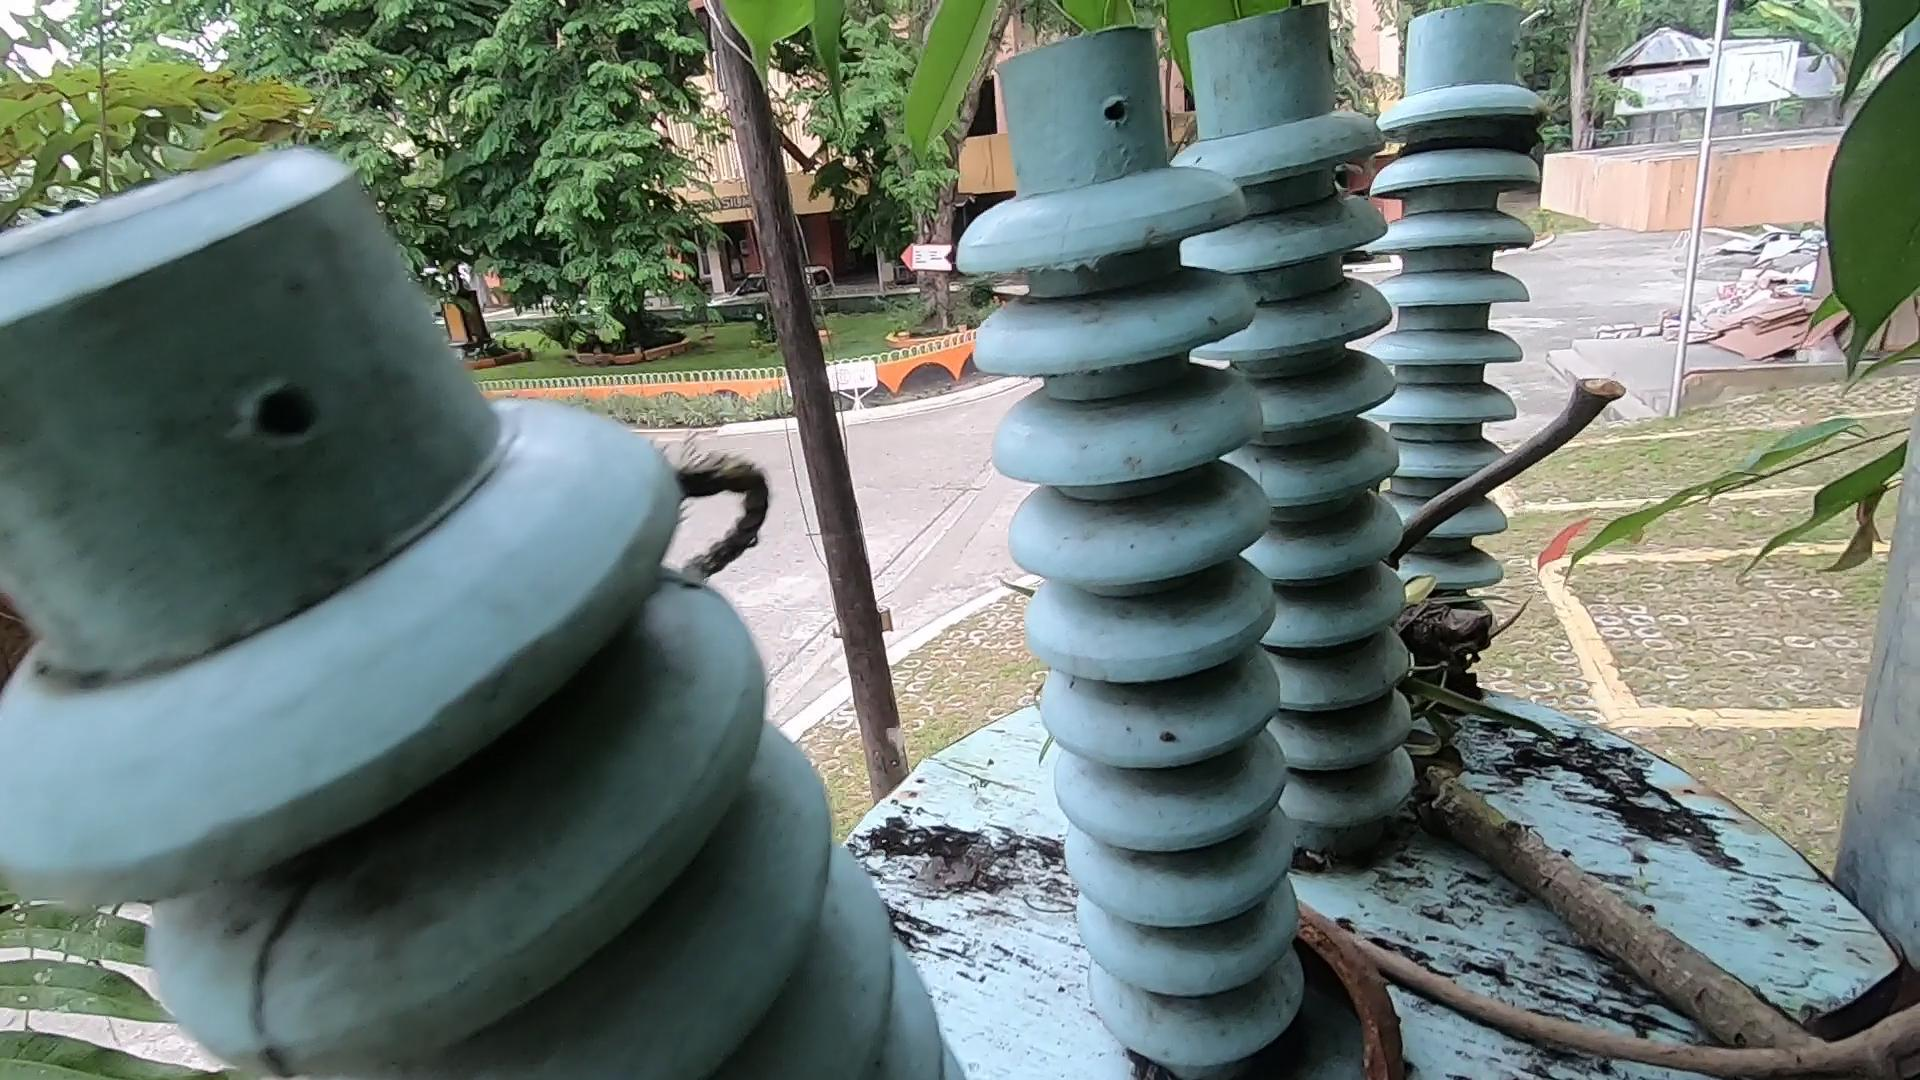branch with leaves: (1283, 512, 1854, 1080)
leaf: (1766, 959, 1920, 1043)
mahogany fruit: (1283, 874, 1404, 1071)
tree branch: (1265, 865, 1859, 1080), (1403, 257, 1695, 582)
